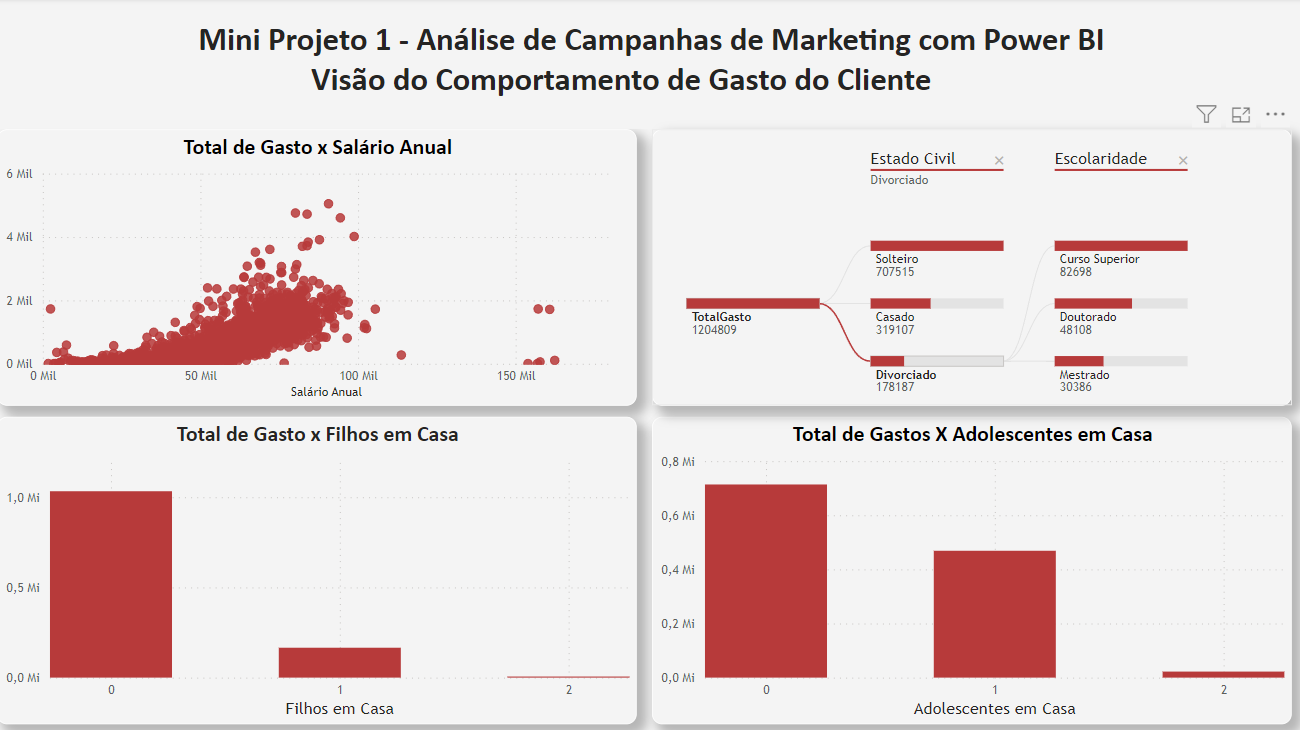

The page's visual inventory and layout, read from the dashboard file:
{"tool":"powerbi","page":{"name":"Visão comportamento","canvas":[1280,720],"ordinal":1},"visuals":[{"type":"scatterChart","title":"Total de Gasto x Salário Anual","fields":{"X":["superstore_data.Income"],"Y":["superstore_data.TotalGasto"]},"box":[10.9,125.4,625.9,291.9],"z":0},{"type":"decompositionTreeVisual","fields":{"Analyze":["superstore_data.TotalGasto"],"ExplainBy":["superstore_data.Marital_Status","superstore_data.Education"]},"box":[644,125.4,624.7,291.9],"z":1000},{"type":"columnChart","title":"Total de Gasto x Crianças em Casa","fields":{"Y":["superstore_data.TotalGasto"],"Category":["superstore_data.Kidhome"]},"box":[10.9,423.3,625.9,291.9],"z":2000},{"type":"columnChart","title":"Total de Gasta x Adolescente em Casa","fields":{"Y":["superstore_data.TotalGasto"],"Category":["superstore_data.Teenhome"]},"box":[644,423.3,624.7,291.9],"z":3000},{"type":"textbox","box":[3.6,0,1272.4,120.6],"z":4000}]}

Visuals, with their boxes in screenshot pixels (x1, y1, x2, y2), scaled from the page's 1280x720 canvas onto the 1300x730 screenshot:
"Total de Gasto x Salário Anual" scatterChart: detection(11, 127, 647, 423)
decompositionTreeVisual - superstore_data.TotalGasto x superstore_data.Marital_Status: detection(654, 127, 1289, 423)
"Total de Gasto x Crianças em Casa" columnChart: detection(11, 429, 647, 725)
"Total de Gasta x Adolescente em Casa" columnChart: detection(654, 429, 1289, 725)
textbox: detection(4, 0, 1296, 122)
